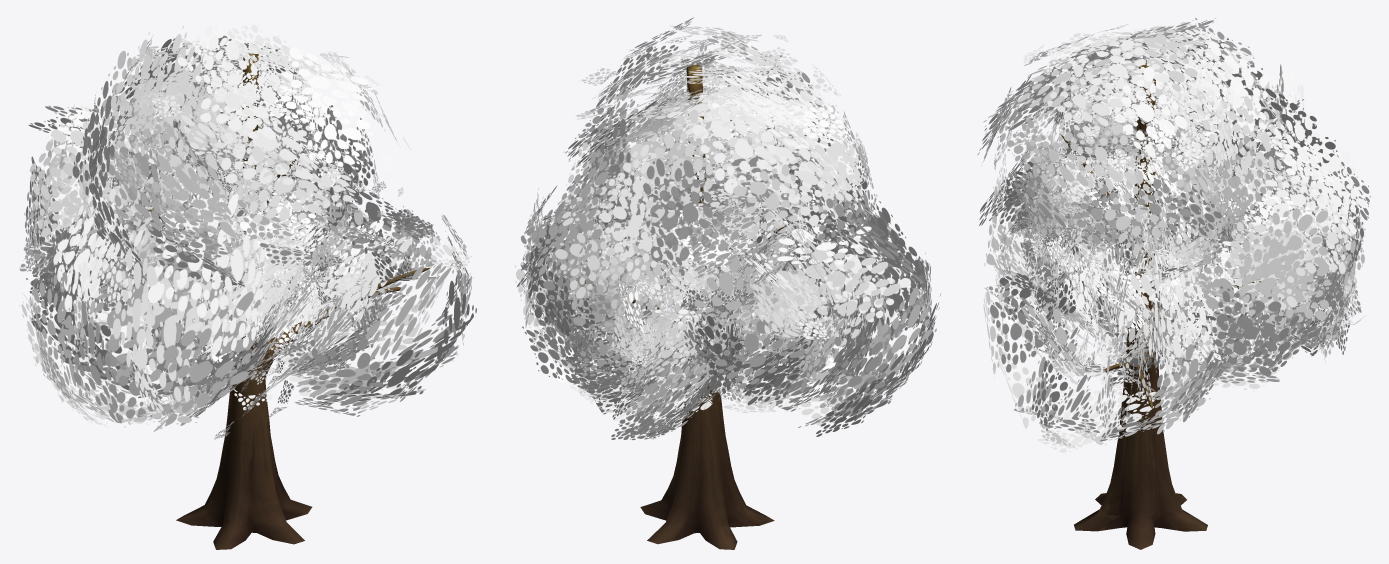
File: treev2.glb
3 renders of one model, left to right at view 1: azimuth 30°, elevation 25°; view 2: azimuth 150°, elevation 25°; view 3: azimuth 270°, elevation 25°, orthographic.
Parts seen in each view (by area): view 1: Plane.113, Plane.109, LP, Plane.110, Plane.111, Plane.055; view 2: Plane.113, Plane.111, Plane.055, Plane.110, LP, Plane.047, Plane.109; view 3: Plane.113, Plane.055, Plane.109, Plane.110, LP, Plane.111, Plane.047.
Part boxes in pixels (x1=…): Plane.113: x1=19, y1=21, x2=476, y2=439; Plane.109: x1=145, y1=181, x2=384, y2=405; LP: x1=147, y1=53, x2=430, y2=549; Plane.110: x1=125, y1=66, x2=359, y2=264; Plane.111: x1=83, y1=127, x2=324, y2=325; Plane.055: x1=147, y1=45, x2=320, y2=307; Plane.113: x1=520, y1=17, x2=940, y2=436; Plane.111: x1=556, y1=189, x2=758, y2=440; Plane.055: x1=515, y1=138, x2=735, y2=409; Plane.110: x1=586, y1=57, x2=810, y2=315; LP: x1=569, y1=64, x2=792, y2=549; Plane.047: x1=543, y1=209, x2=690, y2=364; Plane.109: x1=648, y1=152, x2=848, y2=395; Plane.113: x1=977, y1=18, x2=1315, y2=454; Plane.055: x1=1139, y1=88, x2=1370, y2=391; Plane.109: x1=995, y1=147, x2=1186, y2=379; Plane.110: x1=1052, y1=55, x2=1263, y2=290; LP: x1=1060, y1=60, x2=1277, y2=549; Plane.111: x1=1151, y1=148, x2=1364, y2=379; Plane.047: x1=1105, y1=139, x2=1365, y2=348.
Bounding box in the file's own units: 11.56 × 12.58 × 9.35.
Materials: 2 (2 with a texture image).
